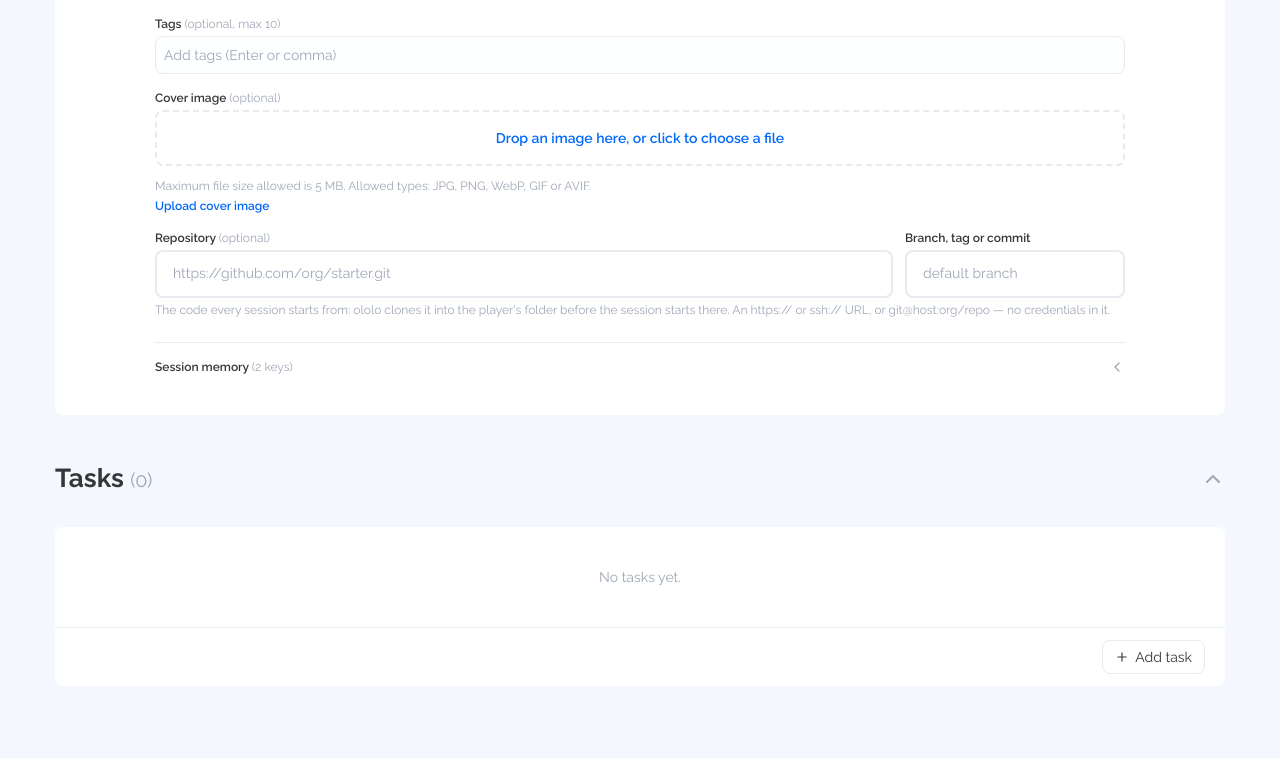
Test: routes/projects/[id=uuid]/edit/+page.svelte › Offers the memory schema to non-admin owners, prefilled from the project
The width and height of the screenshot is (1280, 758).
(page scrolled)
The rows themselves live behind the collapsed header.
Step 1. Click the button "Session memory (2 keys)" → (203,367), box x1=155 y1=359 x2=1125 y2=375
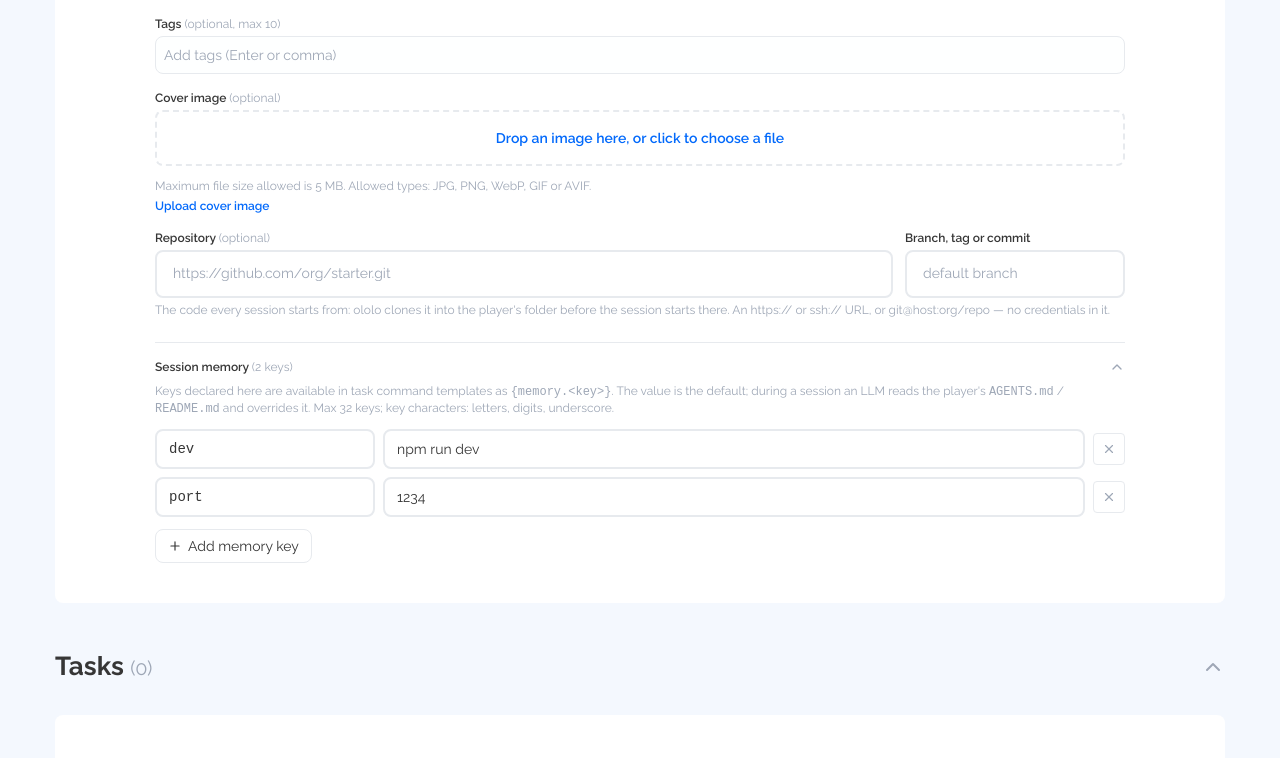
Expected: the number of elements with test id "memory-schema-row" is 2, x1=155 y1=429 x2=1125 y2=469; x1=155 y1=477 x2=1125 y2=517
